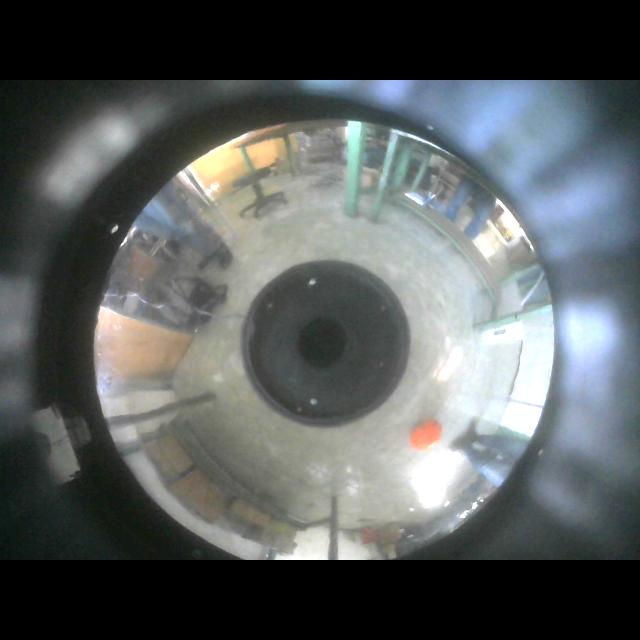bola: (410, 420, 443, 452)
